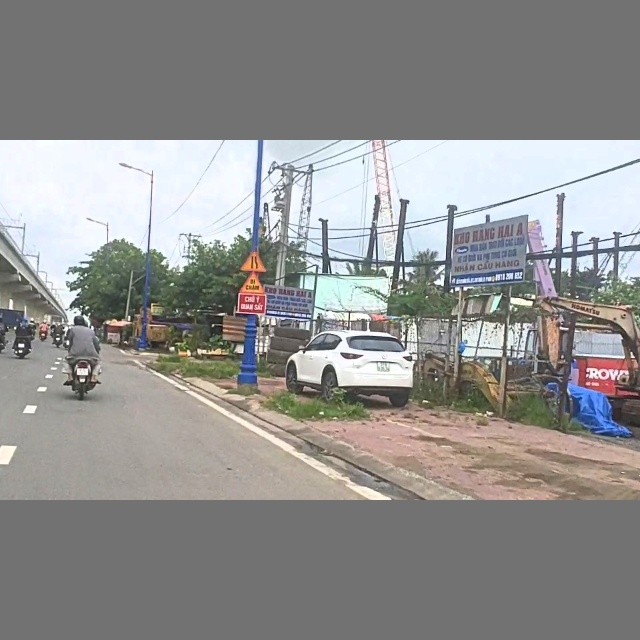W.203c: (240, 251, 267, 273)
W.245a: (239, 273, 267, 293)
